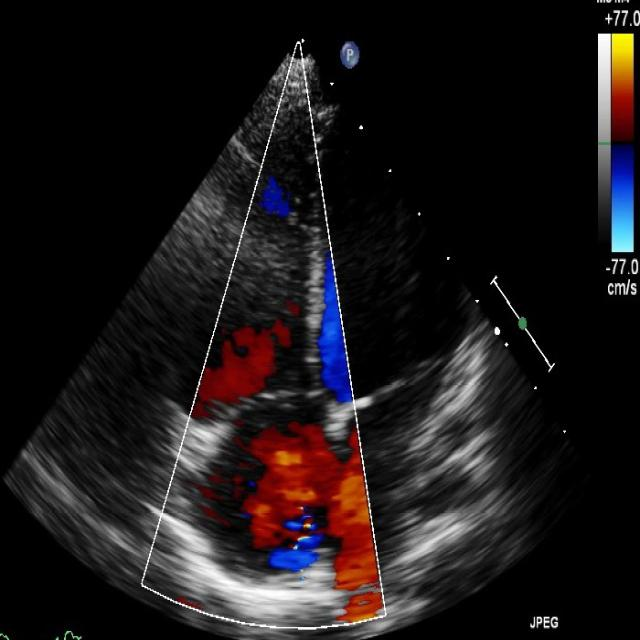ASDType2: (236, 397, 388, 623)
